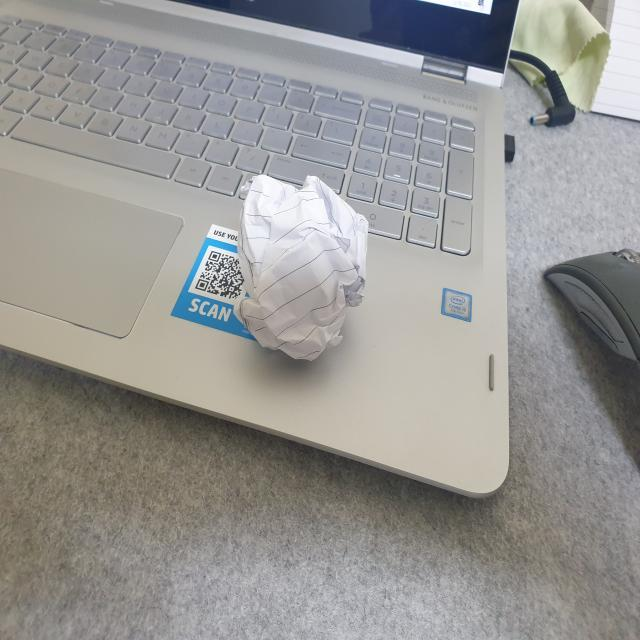Paper: (236, 170, 369, 360)
